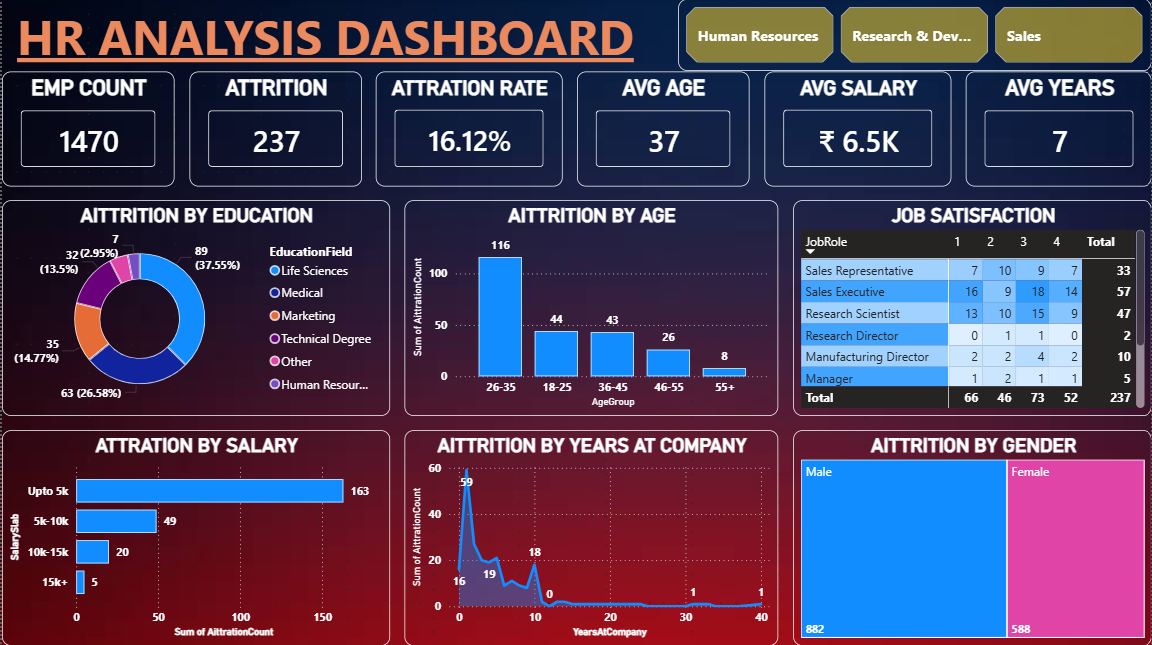

Layout of this report page (visuals, bound fields, positions):
{"tool":"powerbi","page":{"name":"Page 1","canvas":[1280,720],"ordinal":0},"visuals":[{"type":"cardVisual","title":"EMP COUNT","fields":{"Data":["Count(HR_Analytics.EmpID)"]},"box":[0,80,192,128],"z":0},{"type":"cardVisual","title":"ATTRITION ","fields":{"Data":["Sum(HR_Analytics.AittrationCount)"]},"box":[208,80,192,128],"z":1000},{"type":"cardVisual","title":"ATTRATION RATE","fields":{"Data":["HR_Analytics.AttrationRate"]},"box":[416,80,208,128],"z":2000},{"type":"cardVisual","title":"AVG SALARY","fields":{"Data":["Avg(HR_Analytics.MonthlyIncome)"]},"box":[848,80,208,128],"z":3000},{"type":"cardVisual","title":"AVG AGE ","fields":{"Data":["Avg(HR_Analytics.Age)"]},"box":[640,80,192,128],"z":4000},{"type":"cardVisual","title":"AVG YEARS","fields":{"Data":["Avg(HR_Analytics.YearsAtCompany)"]},"box":[1072,80,208,128],"z":5000},{"type":"donutChart","title":"AITTRITION BY EDUCATION","fields":{"Category":["HR_Analytics.EducationField"],"Y":["Sum(HR_Analytics.AittrationCount)"]},"box":[0,224,432,240],"z":6000},{"type":"clusteredColumnChart","title":"AITTRITION BY AGE","fields":{"Y":["Sum(HR_Analytics.AittrationCount)"],"Category":["HR_Analytics.AgeGroup"]},"box":[448,224,416,240],"z":7000},{"type":"pivotTable","title":"JOB SATISFACTION","fields":{"Values":["Sum(HR_Analytics.AittrationCount)"],"Columns":["HR_Analytics.JobSatisfaction"],"Rows":["HR_Analytics.JobRole"]},"box":[880,224,400,240],"z":8000},{"type":"clusteredBarChart","title":"ATTRATION BY SALARY","fields":{"Category":["HR_Analytics.SalarySlab"],"Y":["Sum(HR_Analytics.AittrationCount)"]},"box":[0,480,432,240],"z":9000},{"type":"lineChart","title":"AITTRITION BY YEARS AT COMPANY","fields":{"Y":["Sum(HR_Analytics.AittrationCount)"],"Category":["HR_Analytics.YearsAtCompany"]},"box":[448,480,416,240],"z":10000},{"type":"treemap","title":"AITTRITION BY GENDER","fields":{"Values":["CountNonNull(HR_Analytics.Attrition)"],"Group":["HR_Analytics.Gender"]},"box":[880,480,400,240],"z":11000},{"type":"textbox","box":[0,0,720,96],"z":12000},{"type":"advancedSlicerVisual","fields":{"Values":["HR_Analytics.Department"]},"box":[752,0,528,80],"z":13000}]}

Visuals, with their boxes in screenshot pixels (x1, y1, x2, y2), scaled from the page's 1280x720 canvas onto the 1152x645 screenshot:
"EMP COUNT" cardVisual: Rect(0, 72, 173, 186)
"ATTRITION " cardVisual: Rect(187, 72, 360, 186)
"ATTRATION RATE" cardVisual: Rect(374, 72, 562, 186)
"AVG SALARY" cardVisual: Rect(763, 72, 950, 186)
"AVG AGE " cardVisual: Rect(576, 72, 749, 186)
"AVG YEARS" cardVisual: Rect(965, 72, 1151, 186)
"AITTRITION BY EDUCATION" donutChart: Rect(0, 201, 389, 416)
"AITTRITION BY AGE" clusteredColumnChart: Rect(403, 201, 778, 416)
"JOB SATISFACTION" pivotTable: Rect(792, 201, 1151, 416)
"ATTRATION BY SALARY" clusteredBarChart: Rect(0, 430, 389, 644)
"AITTRITION BY YEARS AT COMPANY" lineChart: Rect(403, 430, 778, 644)
"AITTRITION BY GENDER" treemap: Rect(792, 430, 1151, 644)
textbox: Rect(0, 0, 648, 86)
advancedSlicerVisual - HR_Analytics.Department: Rect(677, 0, 1151, 72)
